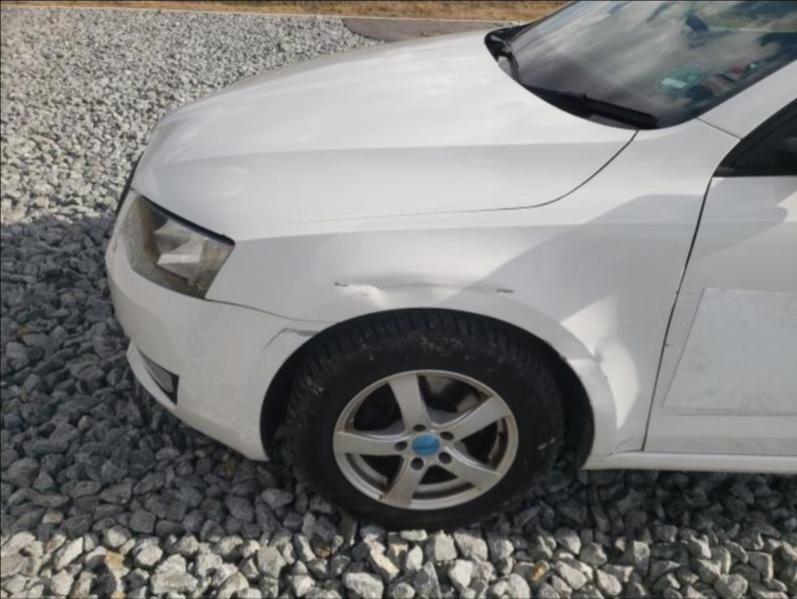Dent: (535, 283, 646, 438), (319, 267, 517, 311)
Scratch: (262, 326, 322, 349)
